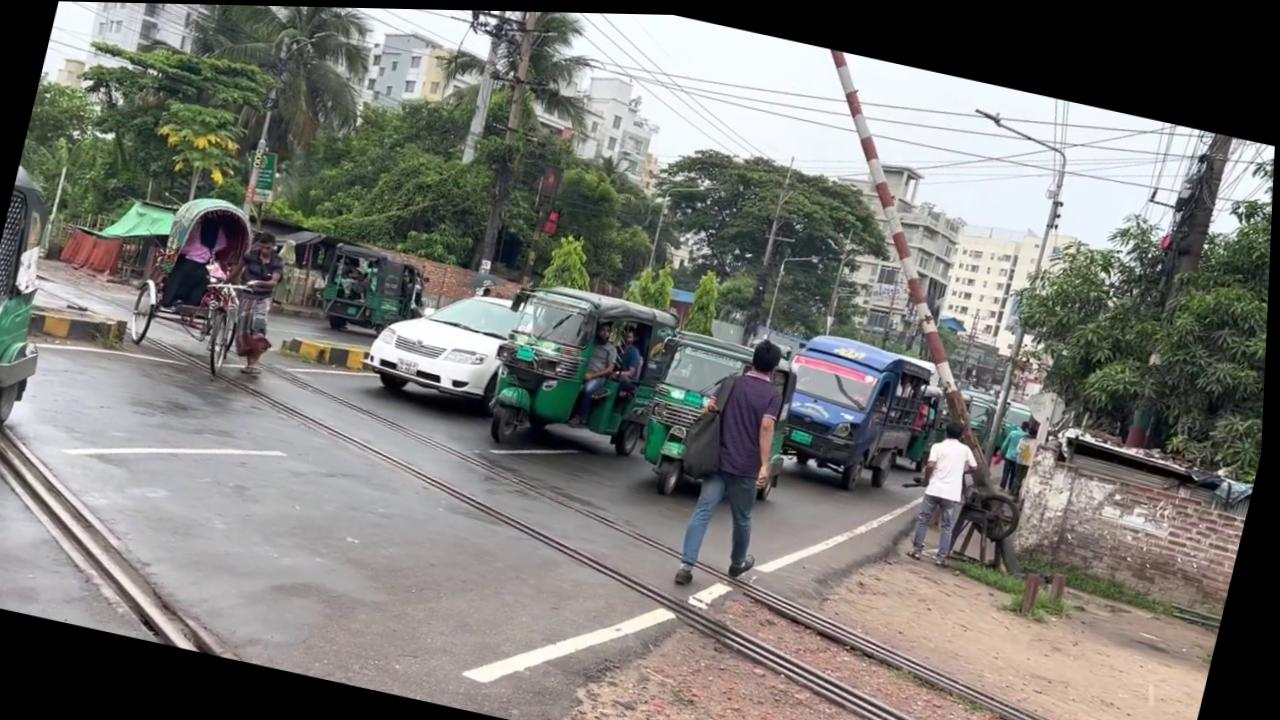Bollard: (356, 267, 540, 418)
Car: (0, 397, 277, 655)
Fence: (669, 325, 809, 594), (206, 223, 298, 375), (906, 412, 991, 565), (569, 315, 627, 430), (606, 322, 652, 398), (993, 410, 1036, 489)
Garbage: (896, 99, 1081, 467), (1122, 122, 1235, 450), (462, 8, 559, 273), (238, 82, 283, 219)
Motorcycle: (379, 440, 1177, 720)
Pole: (541, 203, 563, 233)
Rickshaw: (719, 43, 1130, 573), (478, 270, 686, 472), (0, 162, 83, 435), (311, 234, 440, 344)
